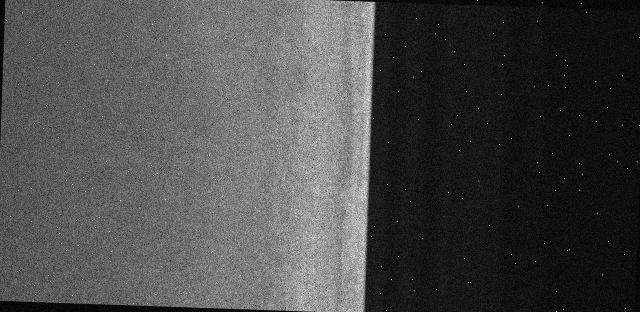silk_spot: (234, 30, 317, 270)
